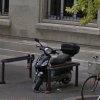Motorcycle: (22, 33, 85, 98)
